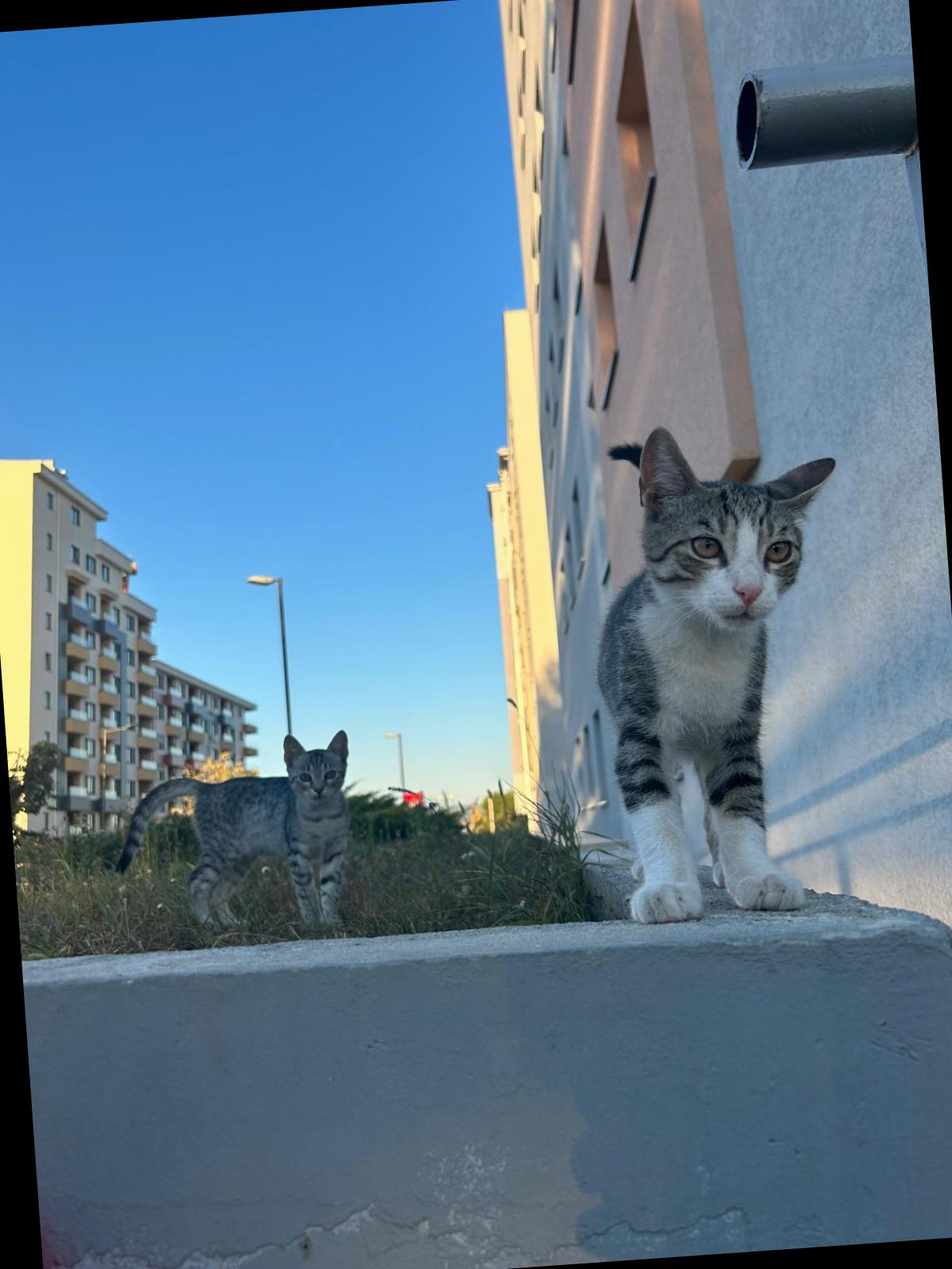macka: (578, 414, 867, 925), (103, 728, 363, 937)
